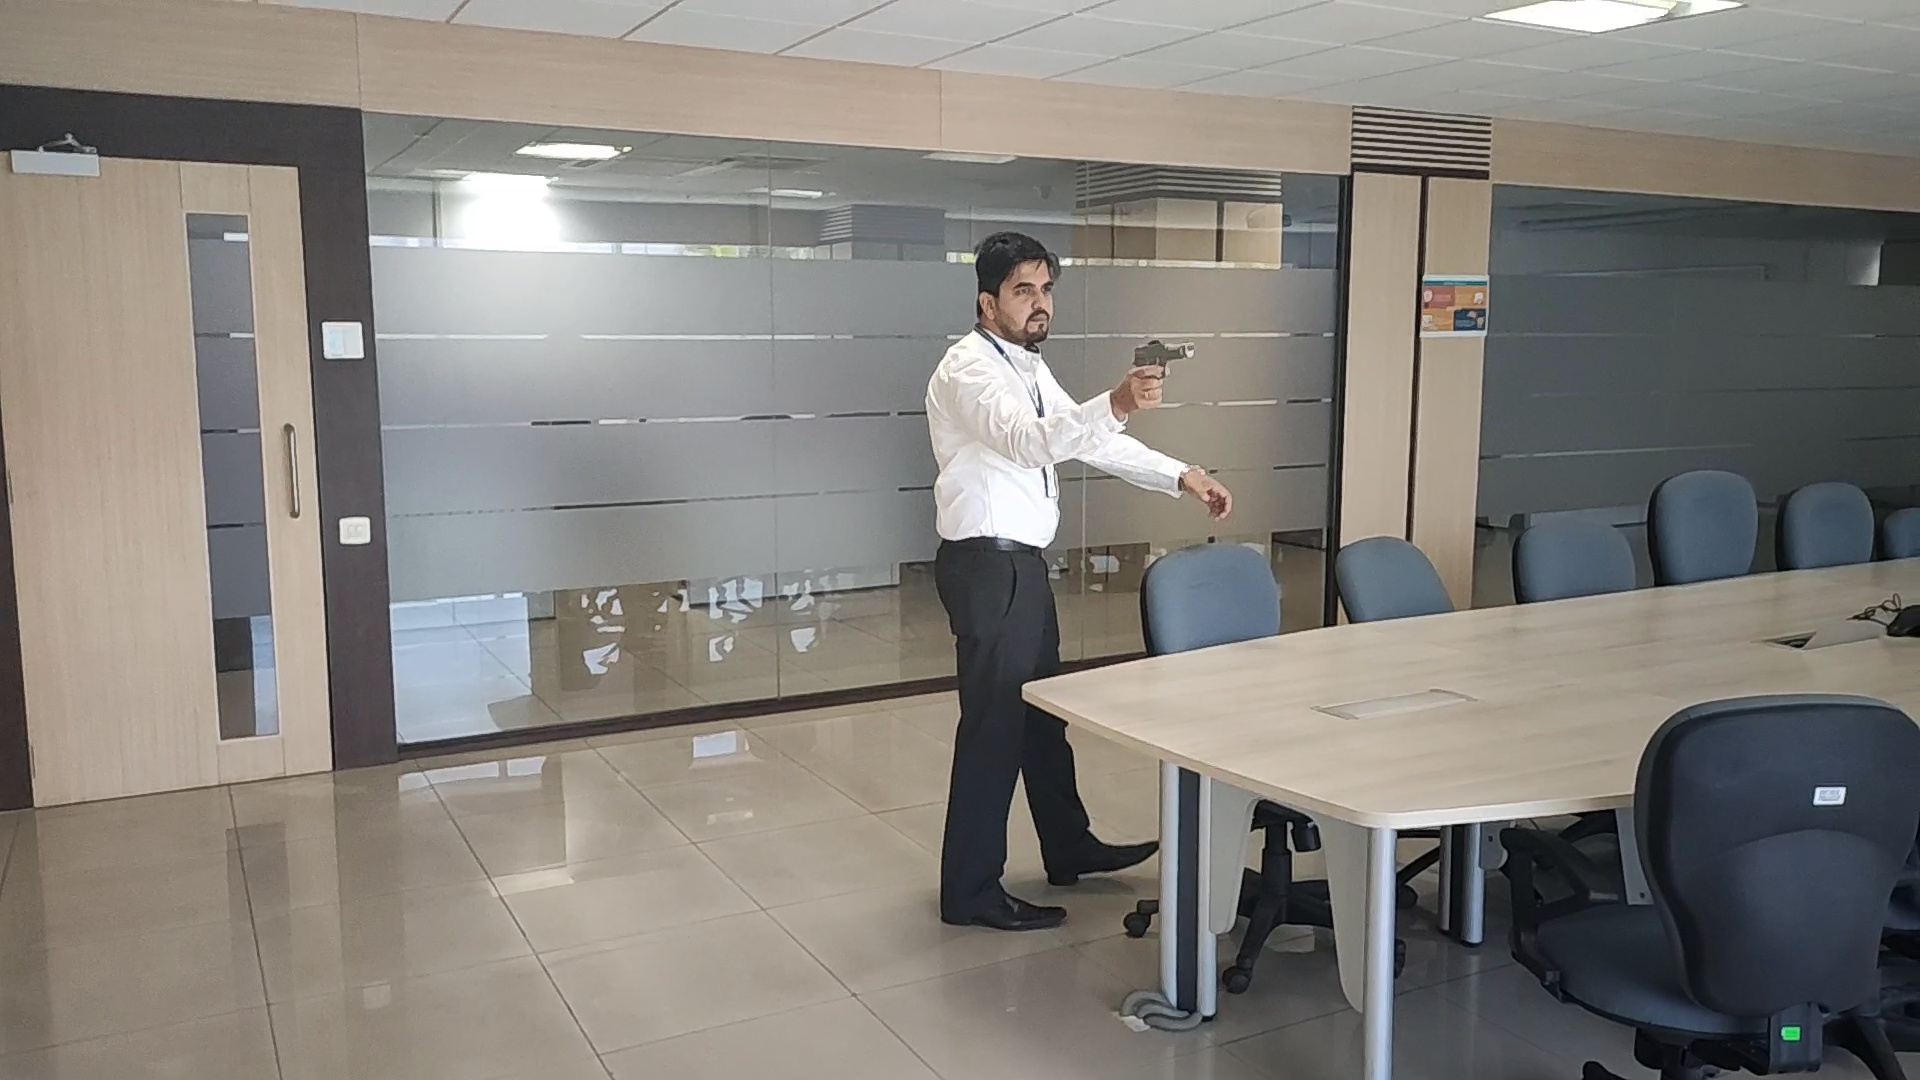gun: (1131, 342, 1197, 371)
